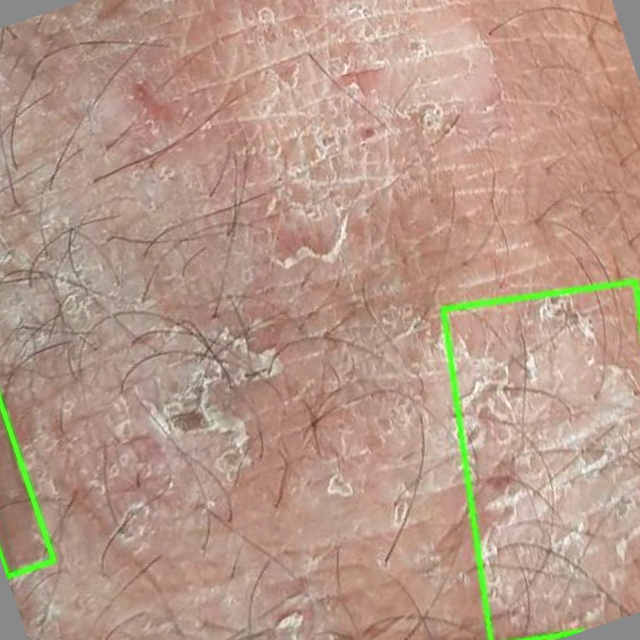Tinea Corporis: (444, 281, 639, 639)
